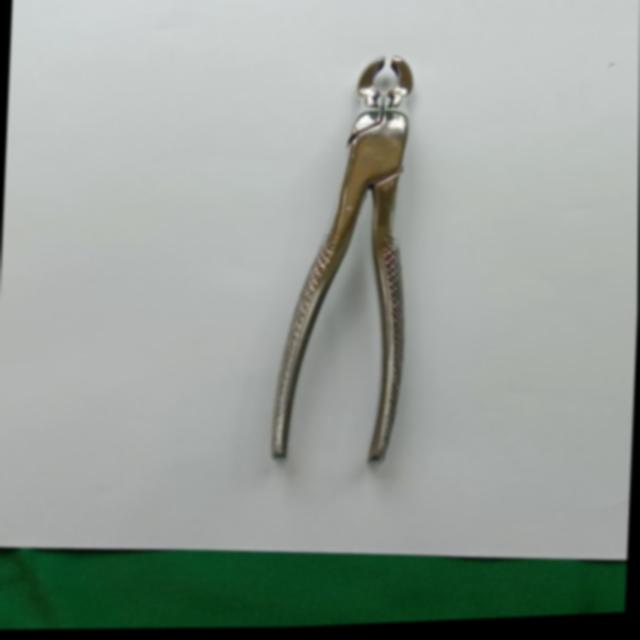BayonetForcep: (252, 48, 429, 479)
